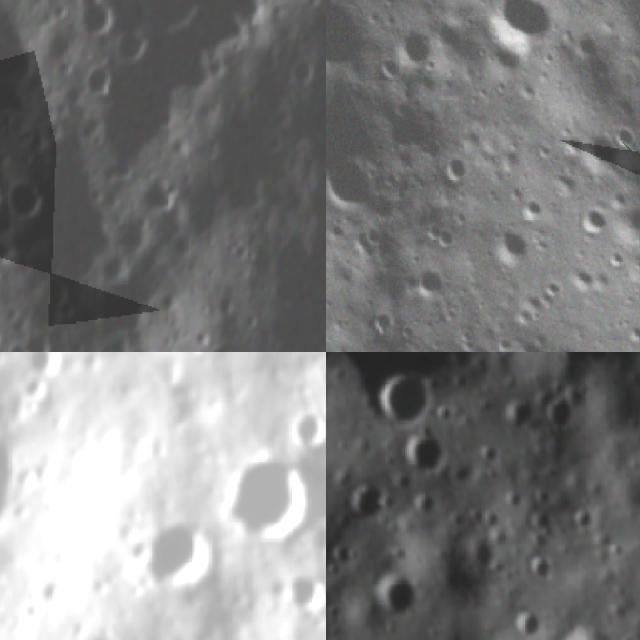crater: (473, 0, 574, 70), (235, 457, 316, 543), (326, 0, 391, 92), (150, 507, 216, 587), (326, 147, 389, 224), (368, 368, 432, 434), (477, 215, 539, 280), (363, 570, 422, 628), (400, 253, 460, 310), (396, 424, 447, 482), (338, 474, 388, 529), (130, 0, 206, 34), (2, 174, 54, 223), (568, 195, 617, 246), (72, 57, 117, 100), (496, 393, 538, 439), (67, 0, 124, 33), (136, 172, 176, 217), (361, 304, 404, 345), (0, 381, 12, 526), (538, 392, 579, 434), (436, 146, 477, 187), (284, 575, 326, 612), (108, 24, 146, 64), (288, 405, 326, 445), (501, 607, 546, 640), (521, 549, 558, 586), (87, 566, 121, 600), (39, 576, 74, 604), (28, 352, 65, 374), (19, 377, 51, 399)
